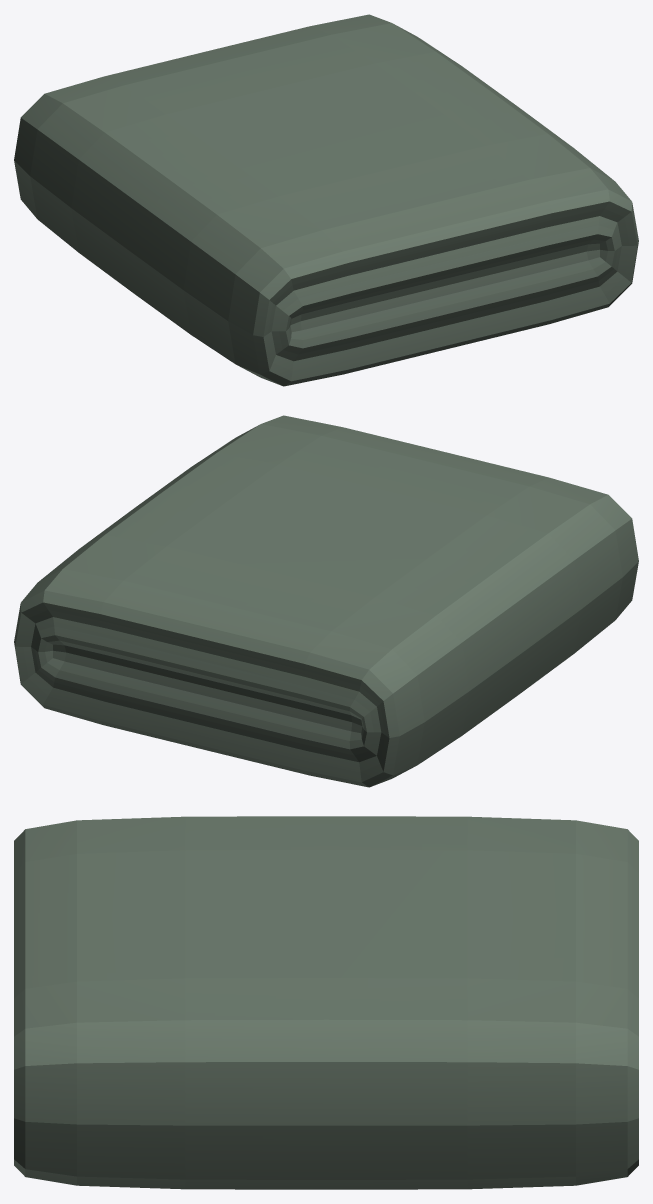
The model's file is Clothes3_C5.fbx.
3 views of the same model, one above another, from view 1: azimuth 30°, elevation 25°; view 2: azimuth 150°, elevation 25°; view 3: azimuth 270°, elevation 25° (orthographic). The views are drawn at different scales.
Parts seen in each view (by area): view 1: Clothes3_C5; view 2: Clothes3_C5; view 3: Clothes3_C5.
Part boxes in pixels (x1=…): Clothes3_C5: x1=14, y1=14, x2=638, y2=386; Clothes3_C5: x1=14, y1=415, x2=638, y2=787; Clothes3_C5: x1=14, y1=816, x2=638, y2=1189.
Bounding box in the file's own units: 22.53 × 7.63 × 24.28.
